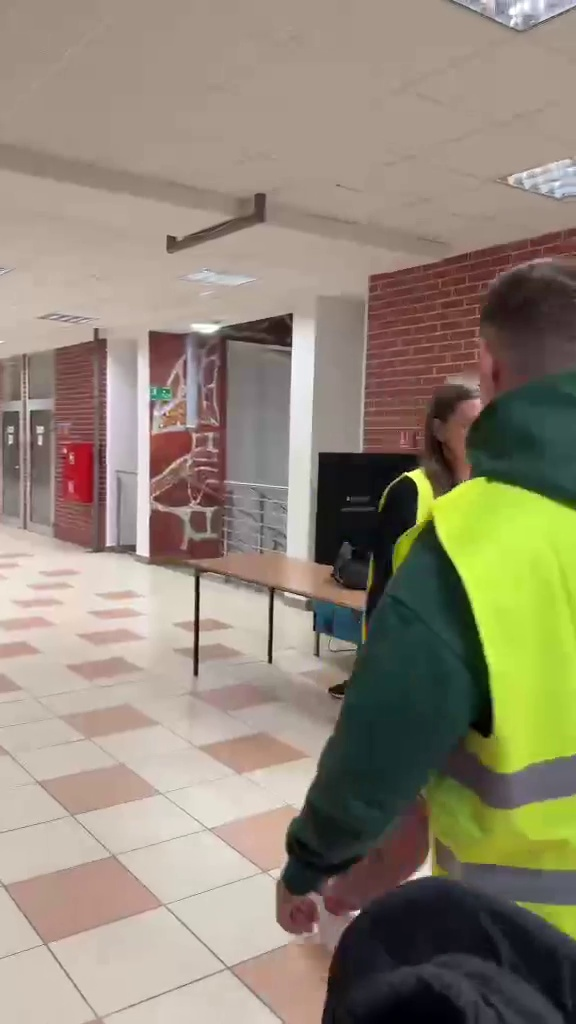vest: (369, 249, 576, 935)
